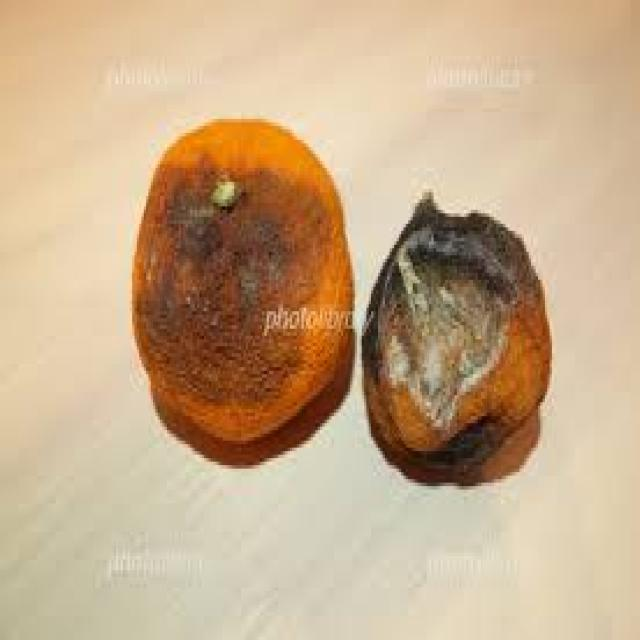food_waste: (132, 119, 352, 462), (362, 196, 547, 483)
